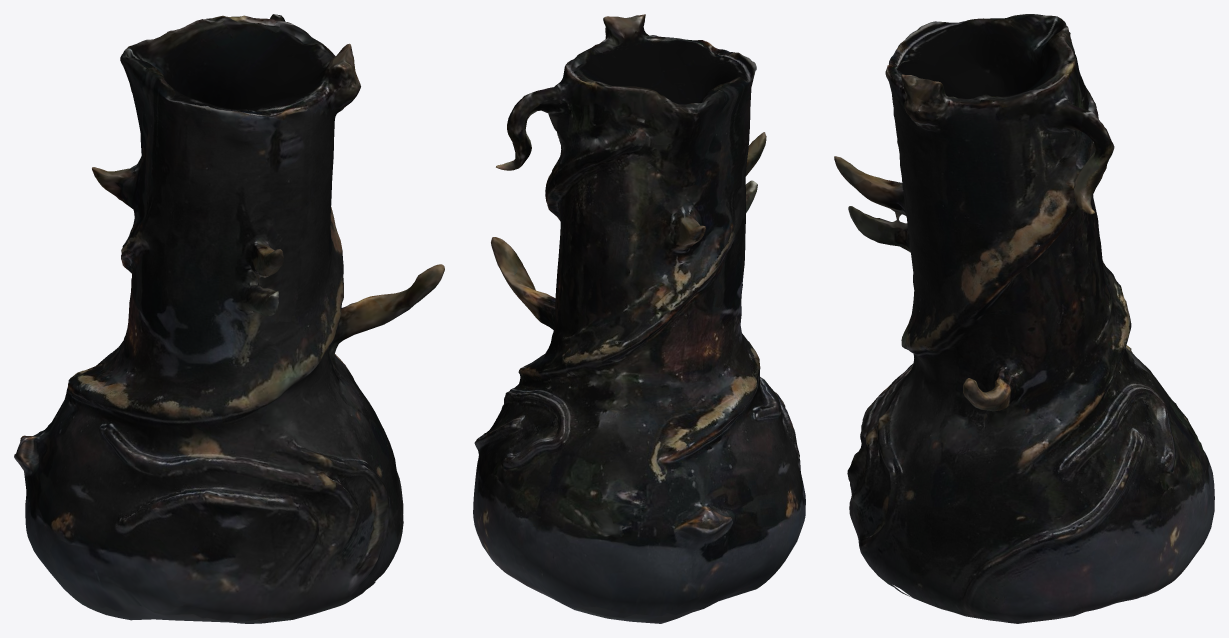
3 renders of one model, left to right at view 1: azimuth 30°, elevation 25°; view 2: azimuth 150°, elevation 25°; view 3: azimuth 270°, elevation 25°, orthographic. The views are drawn at different scales.
Size of the model in its own units: 0.4703 by 0.6975 by 0.446.
1 material, 1 textured.
